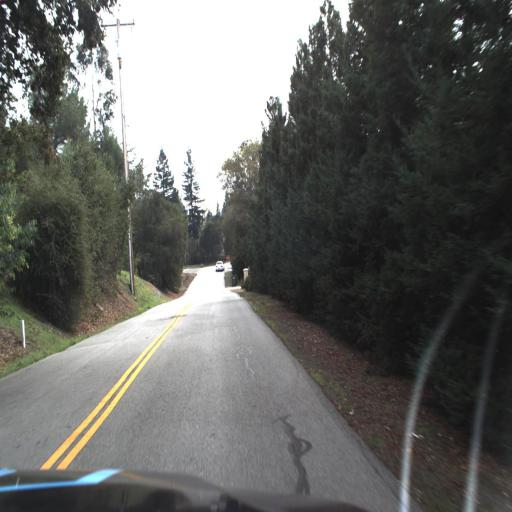car: (213, 252, 226, 276), (215, 253, 227, 275)
